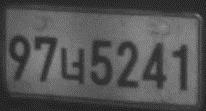1: (172, 42, 189, 92)
2: (117, 40, 138, 90)
4: (142, 42, 167, 90)
5: (90, 38, 113, 86)
7: (33, 35, 57, 82)
9: (8, 34, 30, 82)
너: (60, 47, 85, 86)
